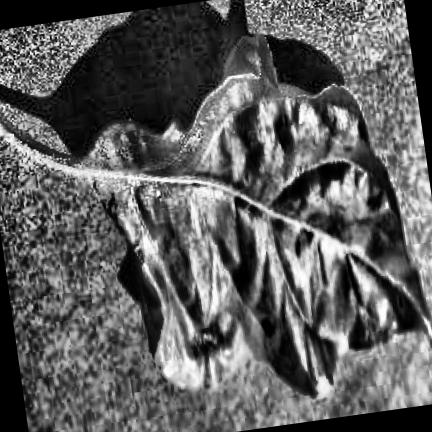leaf: (0, 34, 432, 394)
